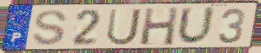2: (73, 8, 103, 47)
3: (217, 7, 247, 45)
H: (139, 6, 181, 47)
S: (31, 9, 70, 47)
U: (175, 5, 217, 47), (105, 7, 143, 46)
